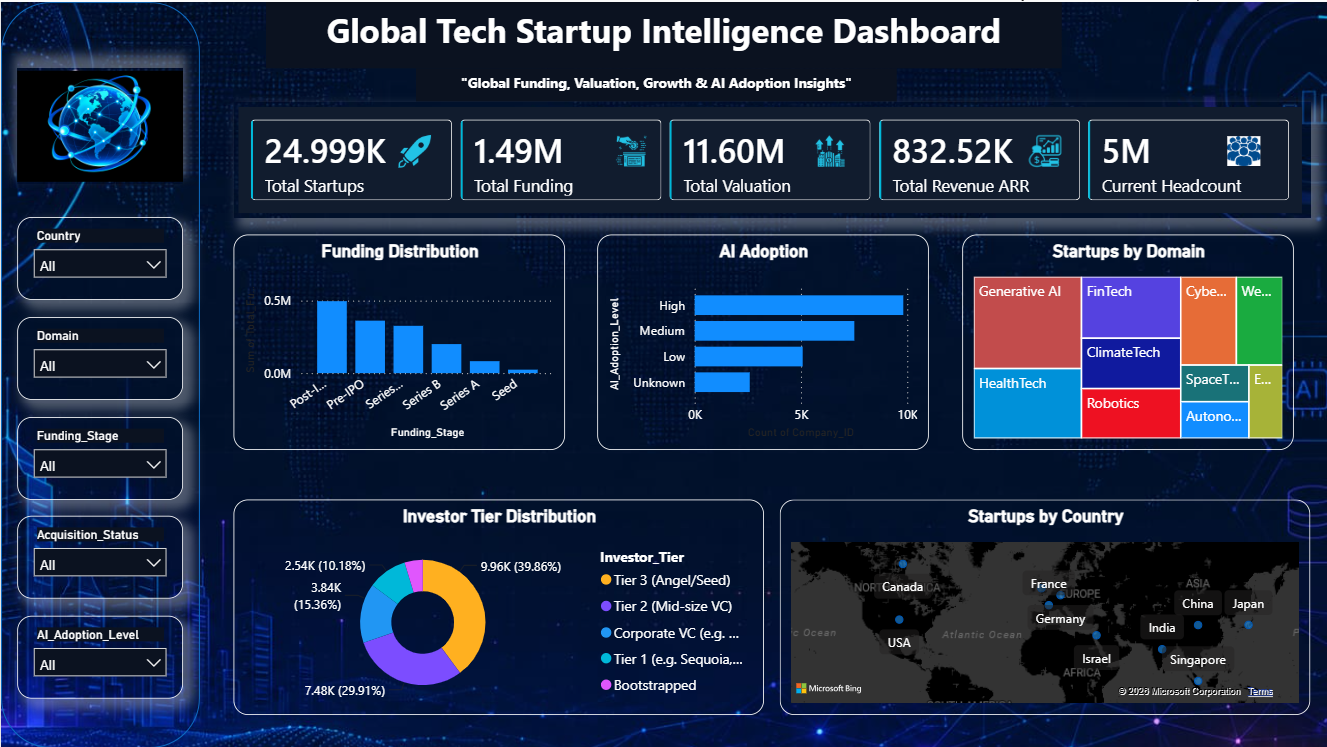

Layout of this report page (visuals, bound fields, positions):
{"tool":"powerbi","page":{"name":"Executive Overview","canvas":[1280,720],"ordinal":0},"visuals":[{"type":"textbox","box":[256,0,768,64],"z":0},{"type":"cardVisual","fields":{"Data":["CountNonNull(global_tech_startups_cleaned.Company_ID)","Sum(global_tech_startups_cleaned.Total_Funding_USD_Millions)","Sum(global_tech_startups_cleaned.Valuation_USD_Millions)","Sum(global_tech_startups_cleaned.Revenue_ARR_Millions)","Sum(global_tech_startups_cleaned.Current_Headcount_2026)"]},"box":[224,96,1040,112],"z":1000},{"type":"map","title":"Startups by Country","fields":{"Category":["global_tech_startups_cleaned.Country"],"Y":["CountNonNull(global_tech_startups_cleaned.Company_ID)"]},"box":[752,480,512,208],"z":2000},{"type":"clusteredColumnChart","title":"Funding Distribution","fields":{"Category":["global_tech_startups_cleaned.Funding_Stage"],"Y":["Sum(global_tech_startups_cleaned.Total_Funding_USD_Millions)"]},"box":[224,224,320,208],"z":3000},{"type":"treemap","title":"Startups by Domain","fields":{"Group":["global_tech_startups_cleaned.Domain"],"Values":["CountNonNull(global_tech_startups_cleaned.Company_ID)"]},"box":[928,224,320,208],"z":4000},{"type":"donutChart","title":"Investor Tier Distribution","fields":{"Y":["CountNonNull(global_tech_startups_cleaned.Company_ID)"],"Category":["global_tech_startups_cleaned.Investor_Tier"]},"box":[224,480,512,208],"z":5000},{"type":"barChart","title":"AI Adoption","fields":{"Y":["CountNonNull(global_tech_startups_cleaned.Company_ID)"],"Category":["global_tech_startups_cleaned.AI_Adoption_Level"]},"box":[576,224,320,208],"z":6000},{"type":"shape","box":[0,0,192,720],"z":7000},{"type":"slicer","fields":{"Values":["global_tech_startups_cleaned.Country"]},"box":[16,208,160,80],"z":8000},{"type":"slicer","fields":{"Values":["global_tech_startups_cleaned.Domain"]},"box":[16,304,160,80],"z":9000},{"type":"slicer","fields":{"Values":["global_tech_startups_cleaned.Funding_Stage"]},"box":[16,400,160,80],"z":10000},{"type":"slicer","fields":{"Values":["global_tech_startups_cleaned.AI_Adoption_Level"]},"box":[16,592,160,80],"z":11000},{"type":"slicer","fields":{"Values":["global_tech_startups_cleaned.Acquisition_Status"]},"box":[16,496,160,80],"z":12000},{"type":"image","box":[384,128,32,32],"z":13000},{"type":"image","box":[592,128,32,32],"z":14000},{"type":"image","box":[784,128,32,32],"z":15000},{"type":"image","box":[992,128,32,32],"z":16000},{"type":"image","box":[1184,128,32,32],"z":17000},{"type":"image","box":[16,64,160,112],"z":18000},{"type":"textbox","box":[400,64,464,32],"z":19000}]}

Visuals, with their boxes in screenshot pixels (x1, y1, x2, y2), scaled from the page's 1280x720 canvas onto the 1327x747 screenshot:
textbox: detection(265, 0, 1062, 66)
cardVisual - CountNonNull(global_tech_startups_cleaned.Company_ID) x Sum(global_tech_startups_cleaned.Total_Funding_USD_Millions): detection(232, 100, 1310, 216)
"Startups by Country" map: detection(780, 498, 1310, 714)
"Funding Distribution" clusteredColumnChart: detection(232, 232, 564, 448)
"Startups by Domain" treemap: detection(962, 232, 1294, 448)
"Investor Tier Distribution" donutChart: detection(232, 498, 763, 714)
"AI Adoption" barChart: detection(597, 232, 929, 448)
shape: detection(0, 0, 199, 746)
slicer - global_tech_startups_cleaned.Country: detection(17, 216, 182, 299)
slicer - global_tech_startups_cleaned.Domain: detection(17, 315, 182, 398)
slicer - global_tech_startups_cleaned.Funding_Stage: detection(17, 415, 182, 498)
slicer - global_tech_startups_cleaned.AI_Adoption_Level: detection(17, 614, 182, 697)
slicer - global_tech_startups_cleaned.Acquisition_Status: detection(17, 515, 182, 598)
image: detection(398, 133, 431, 166)
image: detection(614, 133, 647, 166)
image: detection(813, 133, 846, 166)
image: detection(1028, 133, 1062, 166)
image: detection(1227, 133, 1261, 166)
image: detection(17, 66, 182, 183)
textbox: detection(415, 66, 896, 100)
